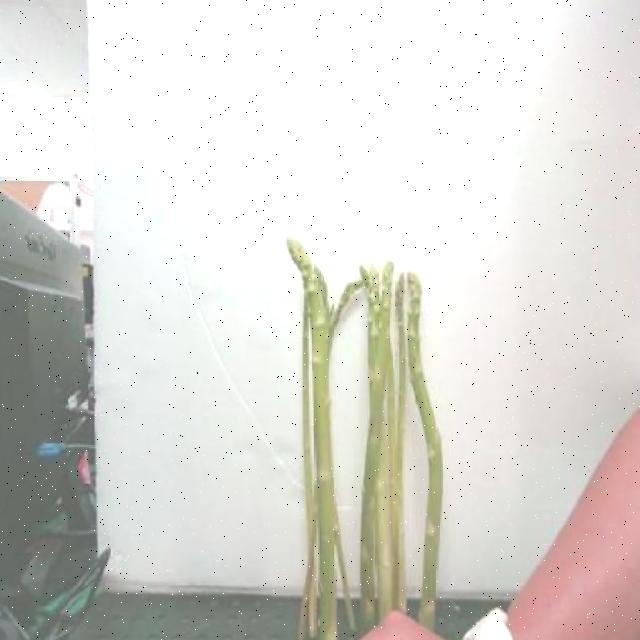aspargus: (281, 234, 339, 640), (406, 276, 446, 634)
